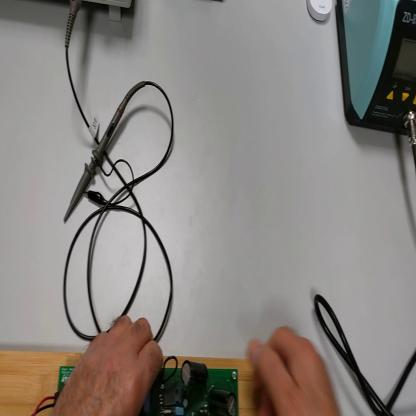hand: (54, 317, 163, 412), (248, 324, 340, 415)
high voltage board: (34, 356, 242, 416)
oscilloscope: (61, 1, 132, 19)
oscilloscope probe tip: (65, 83, 137, 227)
welder station: (337, 2, 416, 131)
working area: (1, 348, 328, 416)
